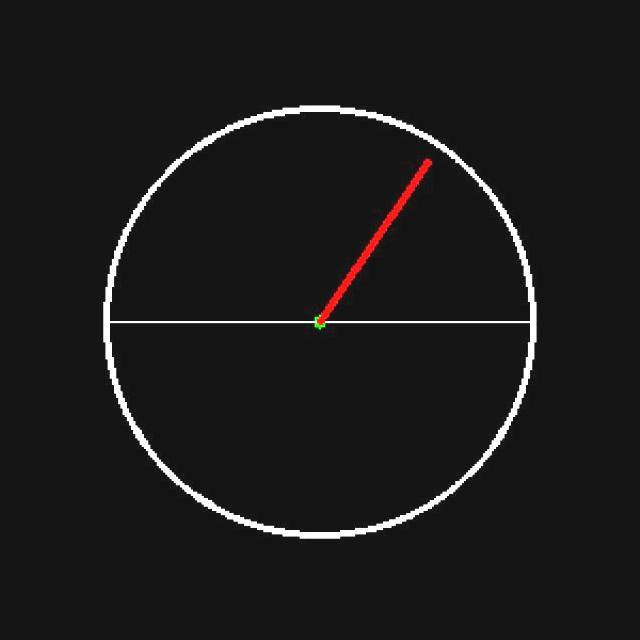Needle_Tip: (389, 140, 457, 197)
Needle_base: (258, 294, 351, 365)
